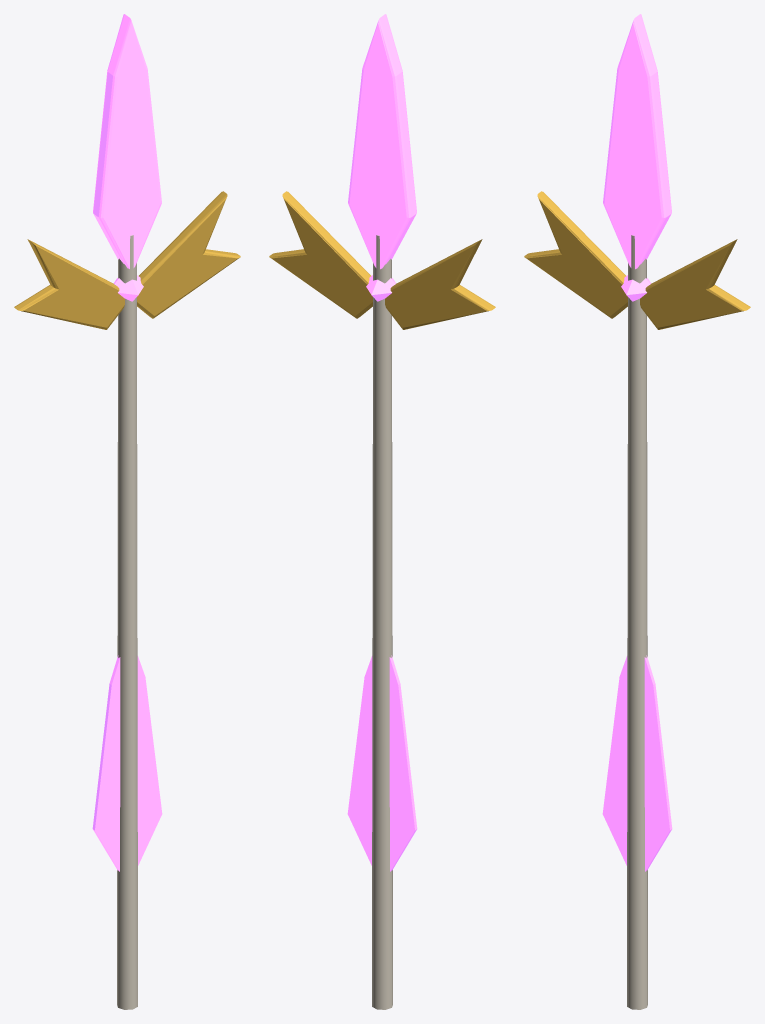
File: spear_f3_6ec10fb2.glb
3 renders of one model, left to right at view 1: azimuth 30°, elevation 25°; view 2: azimuth 150°, elevation 25°; view 3: azimuth 330°, elevation 25°, orthographic.
Visible parts, largest first — view 1: m0_ow80_, m2_gm130_, m4_ow80_, m1_; view 2: m0_ow80_, m2_gm130_, m4_ow80_, m1_; view 3: m0_ow80_, m2_gm130_, m4_ow80_, m1_.
Part boxes in pixels (<box>): m0_ow80_: <box>117,235,137,1009</box>; m2_gm130_: <box>93,14,161,268</box>; m4_ow80_: <box>14,191,240,329</box>; m1_: <box>92,655,162,871</box>; m0_ow80_: <box>372,235,392,1009</box>; m2_gm130_: <box>348,14,416,269</box>; m4_ow80_: <box>269,191,495,329</box>; m1_: <box>347,655,417,871</box>; m0_ow80_: <box>627,235,647,1009</box>; m2_gm130_: <box>603,14,671,269</box>; m4_ow80_: <box>524,191,750,329</box>; m1_: <box>602,655,672,871</box>.
Size of the model in its own units: 0.9339 by 3.97 by 0.16.
